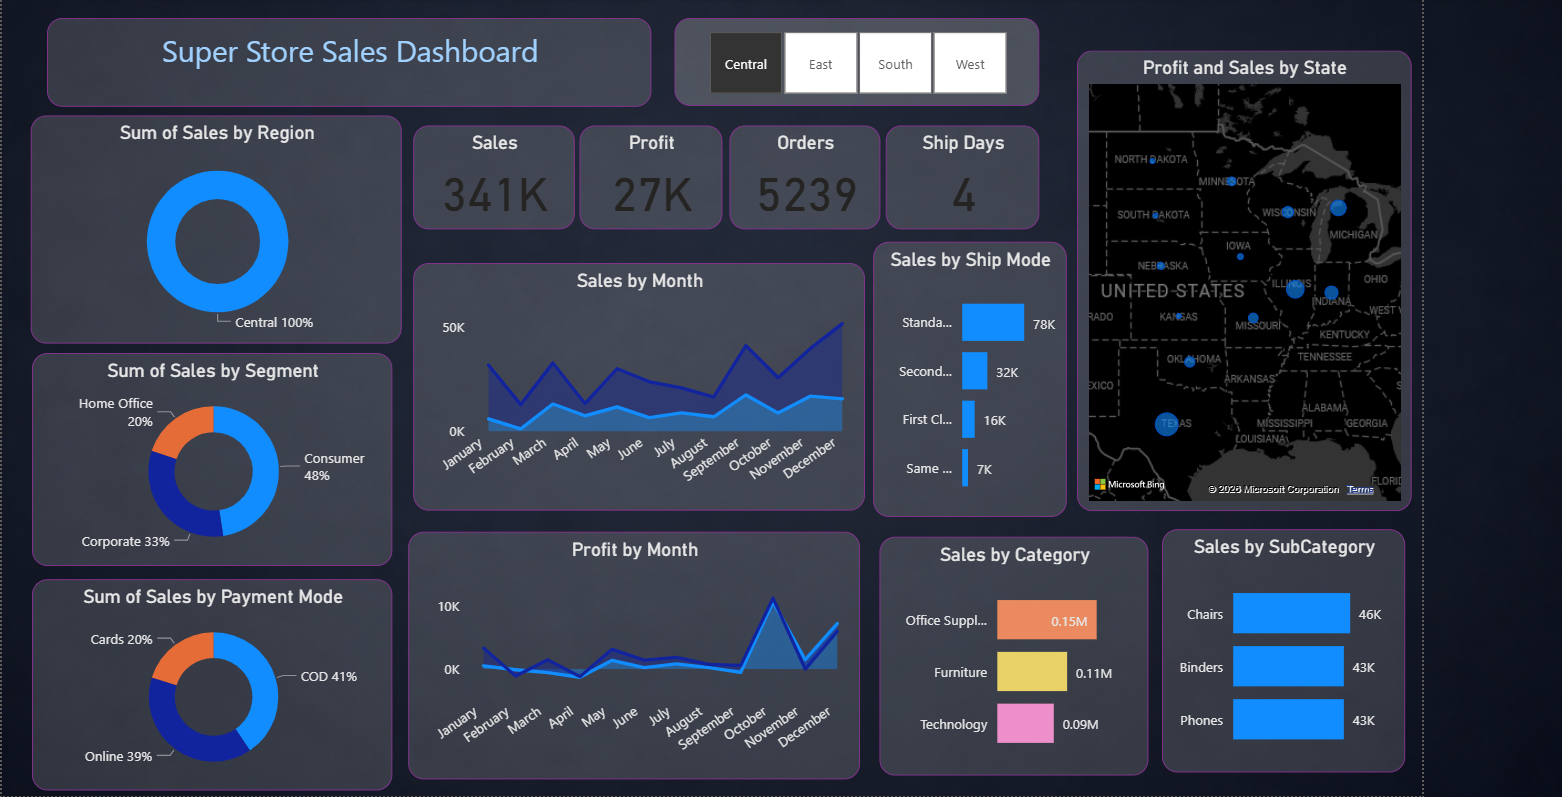

Layout of this report page (visuals, bound fields, positions):
{"tool":"powerbi","page":{"name":"Dashboard","canvas":[1280,720],"ordinal":0},"visuals":[{"type":"clusteredBarChart","title":"Sales by Category","fields":{"Category":["SuperStore_Sales_Dataset.Category"],"Y":["Sum(SuperStore_Sales_Dataset.Sales)"]},"box":[791.1,485.4,242.7,215.3],"z":0},{"type":"clusteredBarChart","title":"Sales by SubCategory","fields":{"Category":["SuperStore_Sales_Dataset.Sub-Category"],"Y":["Sum(SuperStore_Sales_Dataset.Sales)"]},"box":[1046.1,478.5,219.4,219.4],"z":1000},{"type":"clusteredBarChart","title":"Sales by Ship Mode","fields":{"Category":["SuperStore_Sales_Dataset.Ship Mode"],"Y":["Sum(SuperStore_Sales_Dataset.Sales)"]},"box":[785.6,219.4,174.1,248.2],"z":2000},{"type":"stackedAreaChart","title":"Sales by Month","fields":{"Category":["SuperStore_Sales_Dataset.Order Date.Variation.Date Hierarchy.Month","SuperStore_Sales_Dataset.Order Date.Variation.Date Hierarchy.Day"],"Y":["Sum(SuperStore_Sales_Dataset.Sales)"],"Series":["SuperStore_Sales_Dataset.Order Date.Variation.Date Hierarchy.Year"]},"box":[370.2,238.6,407.2,223.5],"z":3000},{"type":"stackedAreaChart","title":"Profit by Month","fields":{"Category":["SuperStore_Sales_Dataset.Order Date.Variation.Date Hierarchy.Month","SuperStore_Sales_Dataset.Order Date.Variation.Date Hierarchy.Day"],"Series":["SuperStore_Sales_Dataset.Order Date.Variation.Date Hierarchy.Year"],"Y":["Sum(SuperStore_Sales_Dataset.Profit)"]},"box":[366.1,481.2,407.2,223.5],"z":4000},{"type":"map","title":"Profit and Sales by State","fields":{"Category":["SuperStore_Sales_Dataset.State"],"Size":["Sum(SuperStore_Sales_Dataset.Sales)"]},"box":[968.8,47.5,301.2,415],"z":5000},{"type":"donutChart","fields":{"Category":["SuperStore_Sales_Dataset.Segment"],"Y":["Sum(SuperStore_Sales_Dataset.Sales)"]},"box":[27.4,319.5,324.9,191.9],"z":6000},{"type":"donutChart","fields":{"Y":["Sum(SuperStore_Sales_Dataset.Sales)"],"Category":["SuperStore_Sales_Dataset.Payment Mode"]},"box":[27.4,523.7,324.9,190.6],"z":7000},{"type":"donutChart","fields":{"Category":["SuperStore_Sales_Dataset.Region"],"Y":["Sum(SuperStore_Sales_Dataset.Sales)"]},"box":[26,105.6,334.5,205.7],"z":8000},{"type":"slicer","fields":{"Values":["SuperStore_Sales_Dataset.Region"]},"box":[606,17.8,329.1,79.5],"z":9000},{"type":"textbox","box":[40,17.5,545,80],"z":10000},{"type":"card","title":"Sales","fields":{"Values":["Sum(SuperStore_Sales_Dataset.Sales)"]},"box":[370.2,115.2,145.3,93.2],"z":11000},{"type":"card","title":"Orders","fields":{"Values":["Sum(SuperStore_Sales_Dataset.Quantity)"]},"box":[655.4,115.2,135.7,93.2],"z":12000},{"type":"card","title":"Profit","fields":{"Values":["Sum(SuperStore_Sales_Dataset.Profit)"]},"box":[521,115.2,128.9,93.2],"z":13000},{"type":"card","title":"Ship Days","fields":{"Values":["Avg(SuperStore_Sales_Dataset.AvgDelivery)"]},"box":[796.6,115.2,138.5,93.2],"z":14000}]}

Visuals, with their boxes on the page's 1280x720 design canvas (x1, y1, x2, y2). These are canvas units, not pixel positions in the 1562x797 screenshot, which may show the page scaled, cropped or inside an application window:
"Sales by Category" clusteredBarChart: <bbox>791, 485, 1034, 701</bbox>
"Sales by SubCategory" clusteredBarChart: <bbox>1046, 478, 1266, 698</bbox>
"Sales by Ship Mode" clusteredBarChart: <bbox>786, 219, 960, 468</bbox>
"Sales by Month" stackedAreaChart: <bbox>370, 239, 777, 462</bbox>
"Profit by Month" stackedAreaChart: <bbox>366, 481, 773, 705</bbox>
"Profit and Sales by State" map: <bbox>969, 48, 1270, 462</bbox>
donutChart - SuperStore_Sales_Dataset.Segment x Sum(SuperStore_Sales_Dataset.Sales): <bbox>27, 320, 352, 511</bbox>
donutChart - Sum(SuperStore_Sales_Dataset.Sales) x SuperStore_Sales_Dataset.Payment Mode: <bbox>27, 524, 352, 714</bbox>
donutChart - SuperStore_Sales_Dataset.Region x Sum(SuperStore_Sales_Dataset.Sales): <bbox>26, 106, 360, 311</bbox>
slicer - SuperStore_Sales_Dataset.Region: <bbox>606, 18, 935, 97</bbox>
textbox: <bbox>40, 18, 585, 98</bbox>
"Sales" card: <bbox>370, 115, 516, 208</bbox>
"Orders" card: <bbox>655, 115, 791, 208</bbox>
"Profit" card: <bbox>521, 115, 650, 208</bbox>
"Ship Days" card: <bbox>797, 115, 935, 208</bbox>
